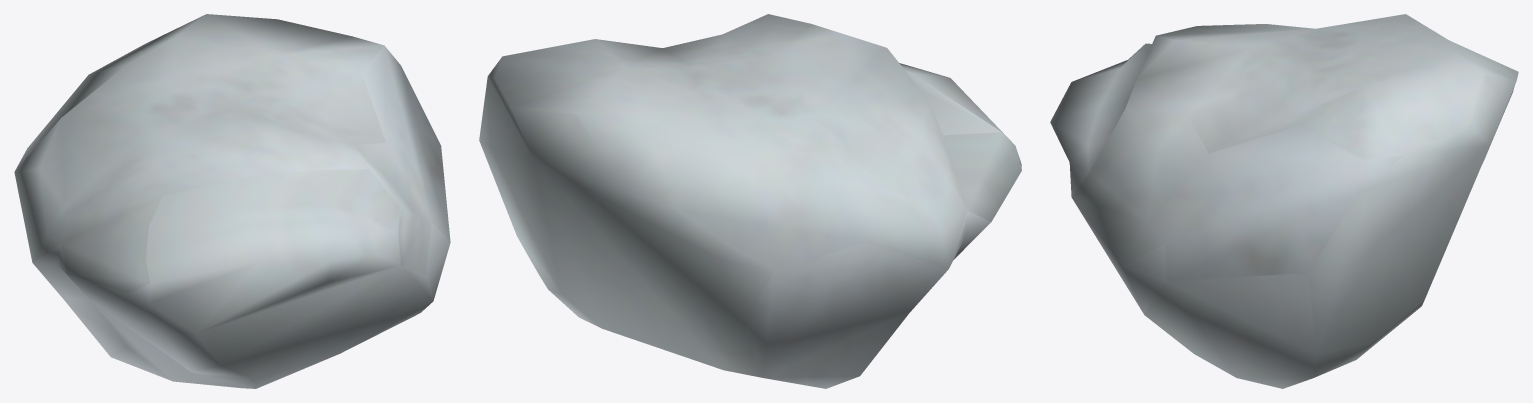
Rendered from P_RockDesert_Rock09.obj.
The picture shows the model from 3 angles, left to right: view 1: azimuth 30°, elevation 25°; view 2: azimuth 150°, elevation 25°; view 3: azimuth 270°, elevation 25°; orthographic projection. The views are drawn at different scales.
Size of the model in its own units: 1.9 by 1.21 by 1.76.
